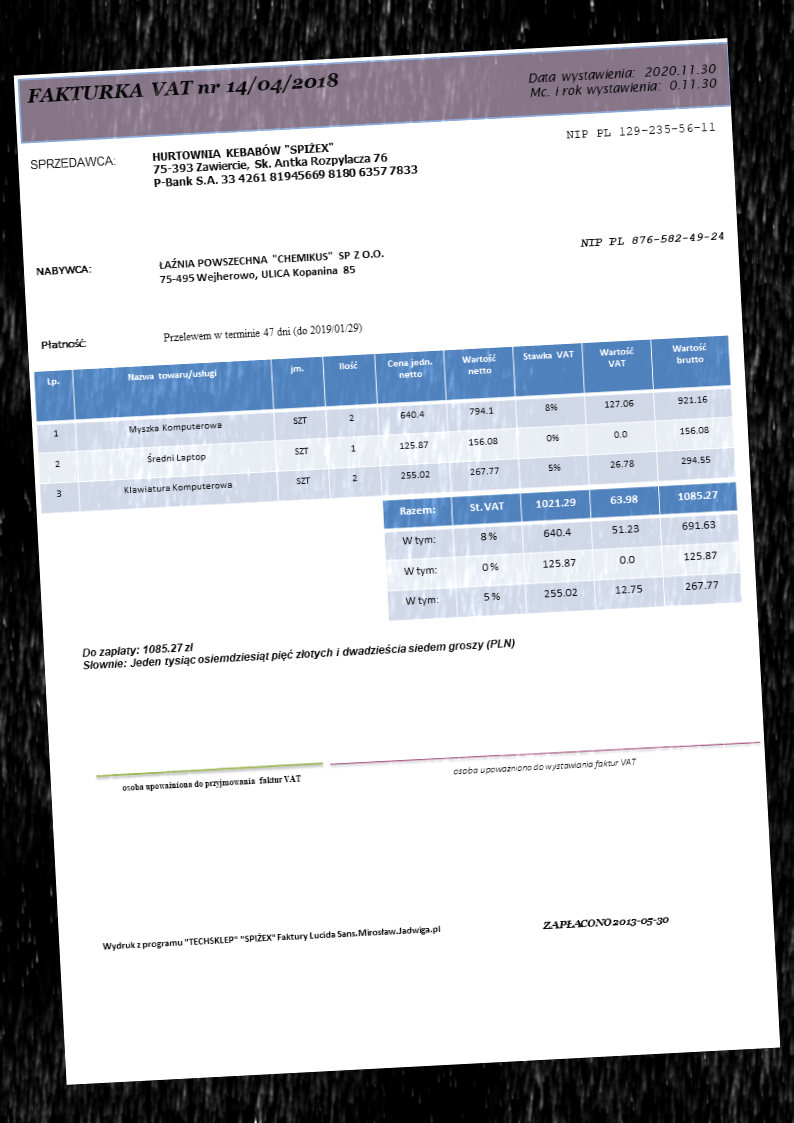Table: (31, 334, 738, 513), (380, 481, 743, 622)
TextBox: (79, 622, 518, 676), (150, 136, 419, 193), (23, 67, 344, 111), (99, 921, 444, 954), (155, 246, 387, 287), (524, 60, 722, 101), (160, 319, 365, 345), (117, 771, 304, 796), (450, 755, 638, 777), (563, 120, 717, 143), (577, 228, 726, 251), (539, 912, 672, 935), (27, 151, 118, 172), (32, 262, 93, 278), (37, 336, 89, 353)
